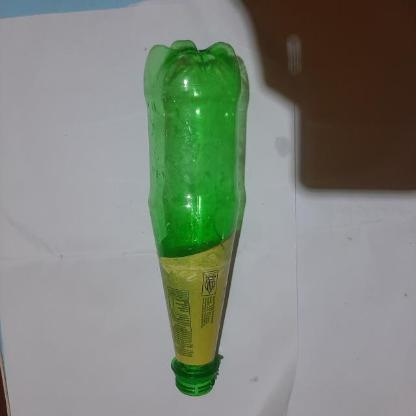Plastic Bottle: (143, 42, 251, 396)
